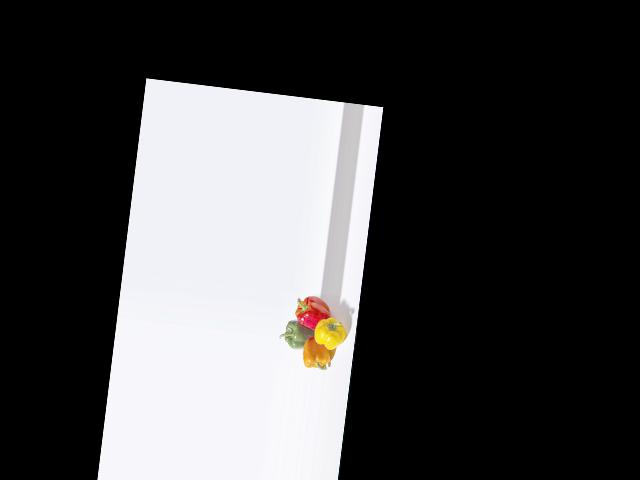bell_pepper: (290, 292, 332, 331)
